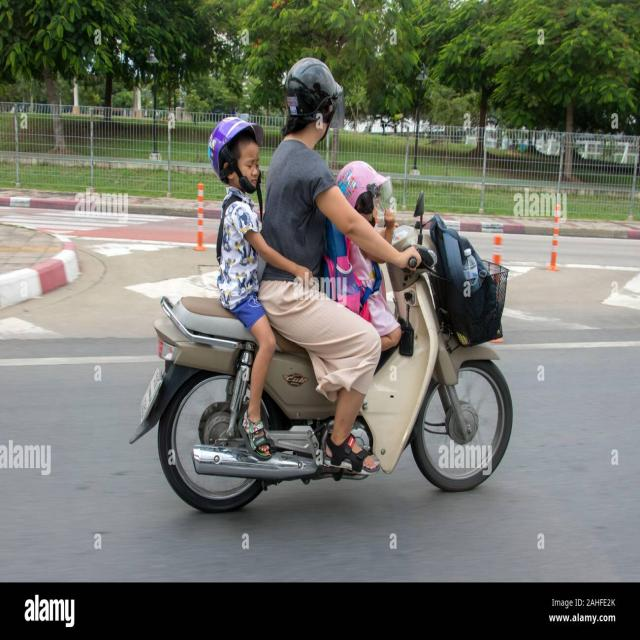Triple Riding: (198, 31, 508, 363)
